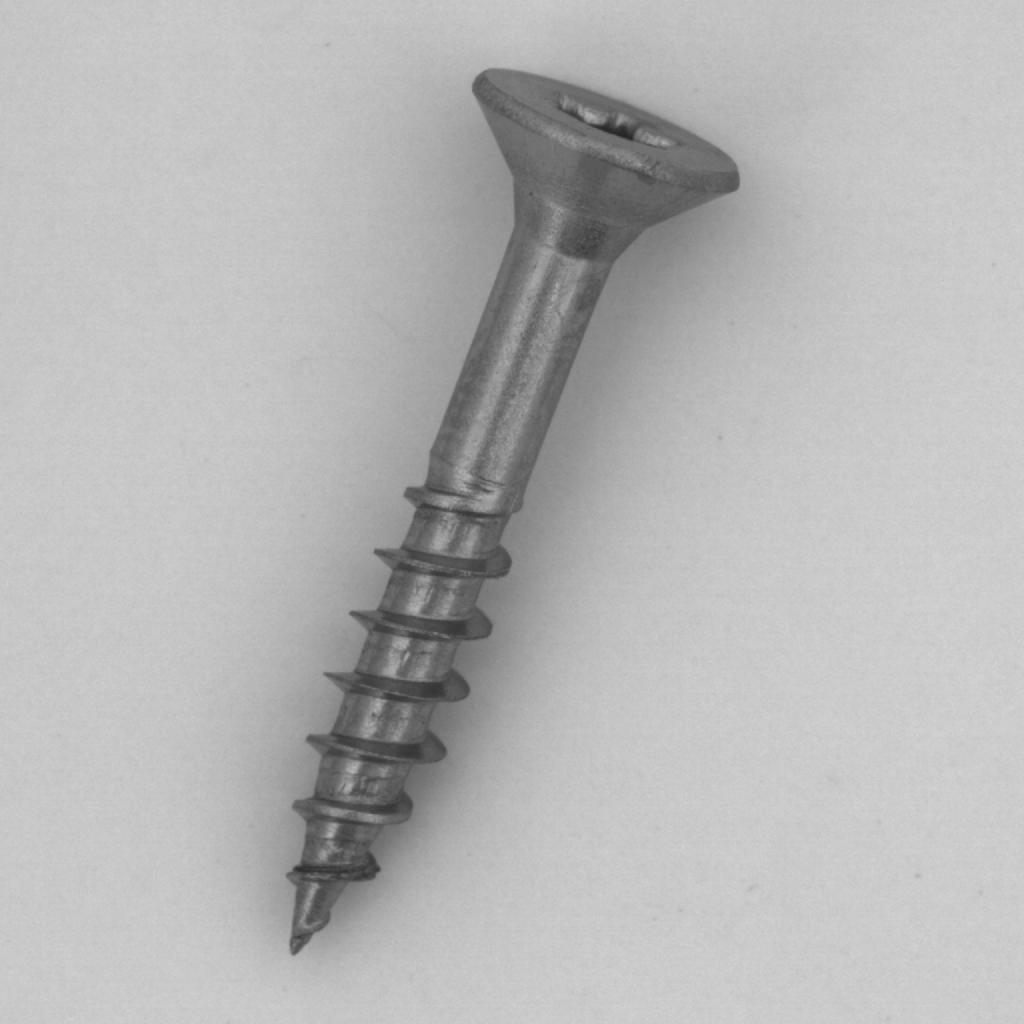good: (256, 43, 771, 973)
